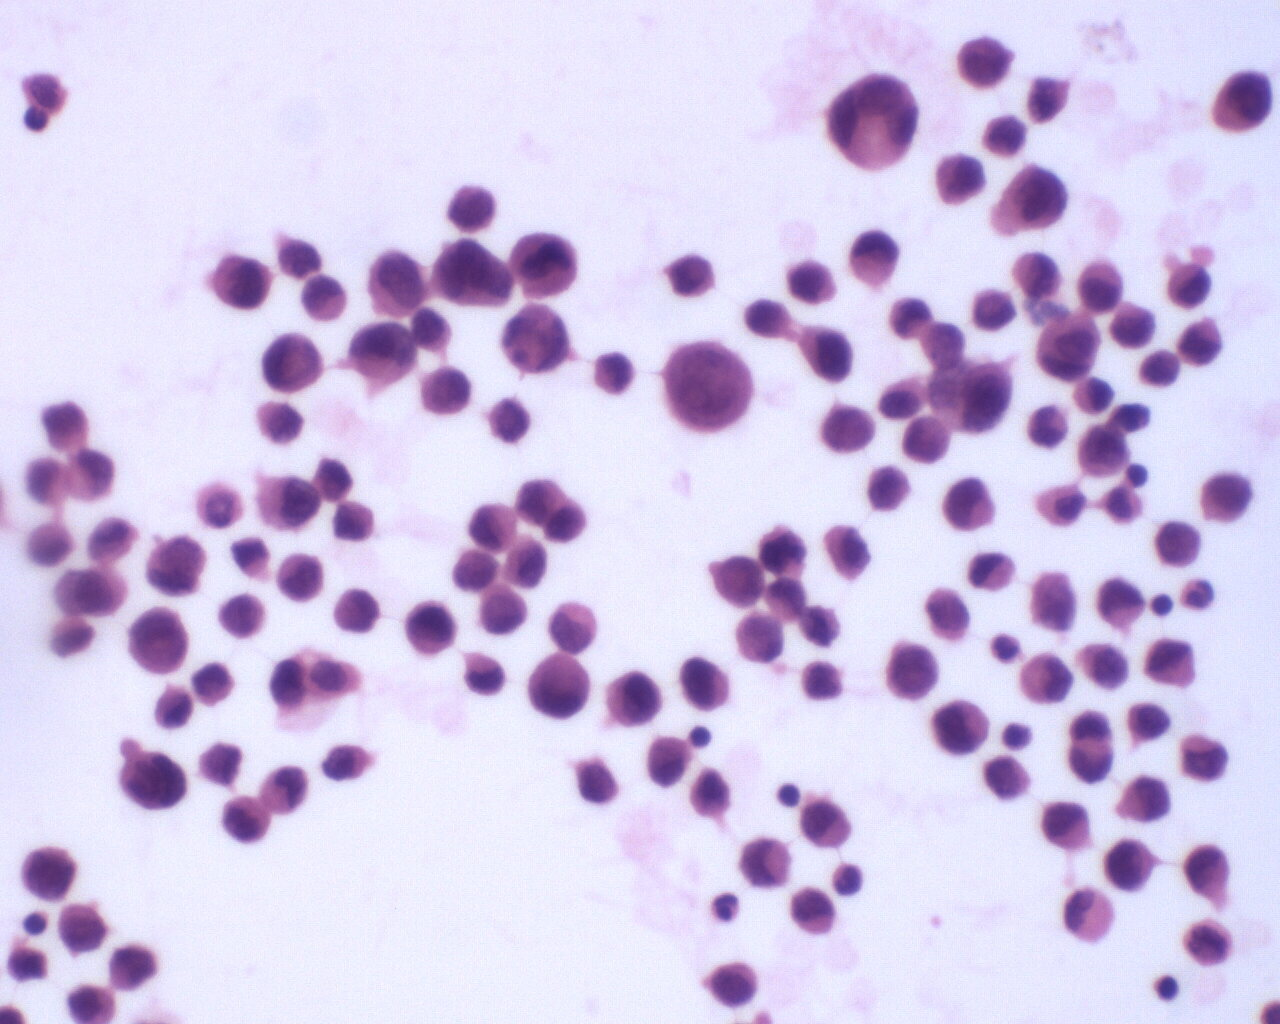ab: (660, 338, 754, 438), (993, 161, 1068, 239), (508, 227, 579, 302), (345, 318, 419, 389), (523, 652, 598, 722), (124, 606, 193, 679), (118, 745, 189, 812), (365, 248, 430, 320), (955, 362, 1013, 437), (258, 329, 324, 394), (1212, 66, 1275, 134), (254, 474, 326, 533), (883, 637, 942, 702), (210, 253, 275, 312), (931, 695, 993, 757), (956, 34, 1017, 97), (20, 842, 80, 905), (941, 475, 1003, 536), (678, 650, 735, 716), (605, 667, 664, 729), (1182, 839, 1239, 902), (401, 599, 461, 658), (818, 397, 877, 457), (1102, 833, 1160, 893), (801, 321, 855, 385), (921, 583, 973, 647), (1075, 422, 1133, 480), (932, 145, 985, 207), (544, 598, 600, 656), (979, 750, 1035, 807), (709, 553, 764, 611), (52, 902, 111, 956), (1201, 466, 1251, 527), (418, 363, 472, 418), (1075, 637, 1131, 692), (1039, 795, 1092, 852), (276, 546, 329, 603), (1009, 246, 1063, 302), (1178, 728, 1232, 783), (734, 611, 786, 668), (478, 582, 529, 639), (664, 248, 718, 301), (216, 588, 273, 639), (503, 531, 552, 589), (1182, 915, 1234, 970), (644, 731, 693, 788), (447, 184, 498, 235), (1153, 515, 1203, 567), (900, 416, 955, 463), (450, 546, 501, 597), (1165, 260, 1213, 312), (1109, 299, 1156, 352), (711, 960, 760, 1010), (1178, 315, 1224, 368), (1123, 699, 1172, 744), (483, 398, 529, 445)
histo: (1062, 881, 1120, 946)
lymph: (1150, 974, 1185, 1006), (777, 778, 804, 807)
neutro: (1180, 573, 1218, 613), (708, 887, 743, 926), (1151, 588, 1176, 618)
